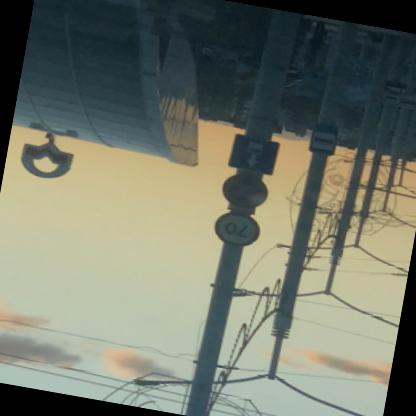speedlimit: (214, 208, 264, 250)
